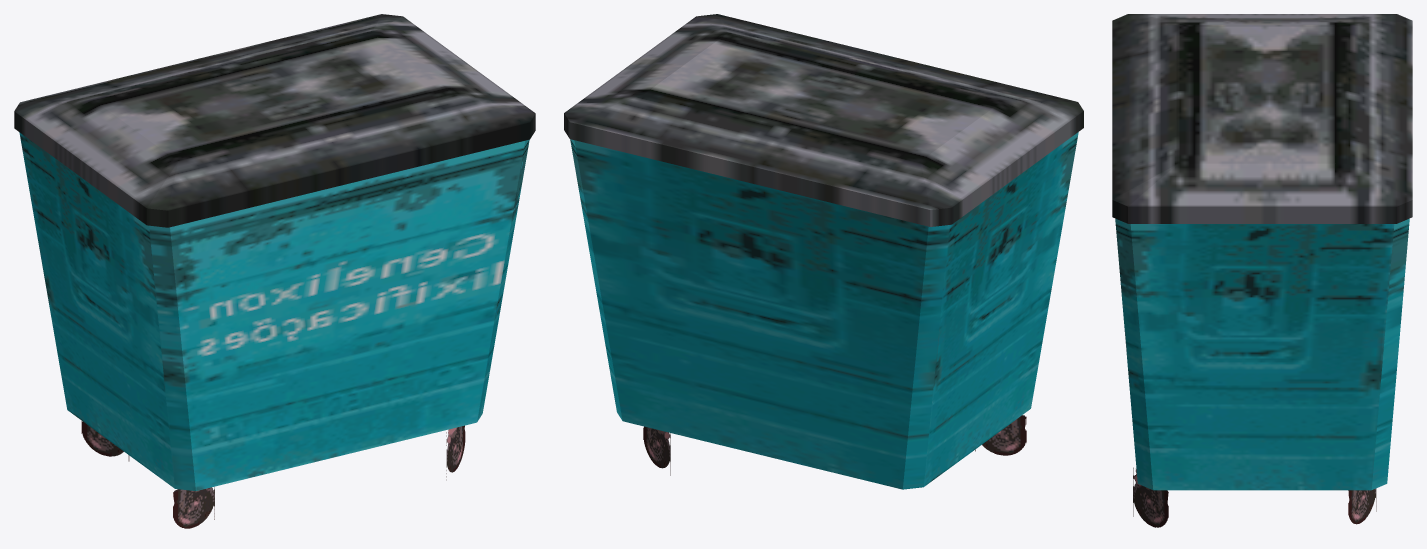
File: binnt03_la.obj
3 renders of one model, left to right at view 1: azimuth 30°, elevation 25°; view 2: azimuth 150°, elevation 25°; view 3: azimuth 270°, elevation 25°, orthographic.
Parts seen in each view (by area): view 1: BinNt03_LA; view 2: BinNt03_LA; view 3: BinNt03_LA.
Boxes of the visible parts, box(x1,y1,x2,y2) form: BinNt03_LA: box(14, 14, 535, 528); BinNt03_LA: box(564, 14, 1083, 489); BinNt03_LA: box(1112, 14, 1412, 527).
Bounding box in the file's own units: 1.99 × 1.78 × 1.32.
Materials: 3 (3 with a texture image).
